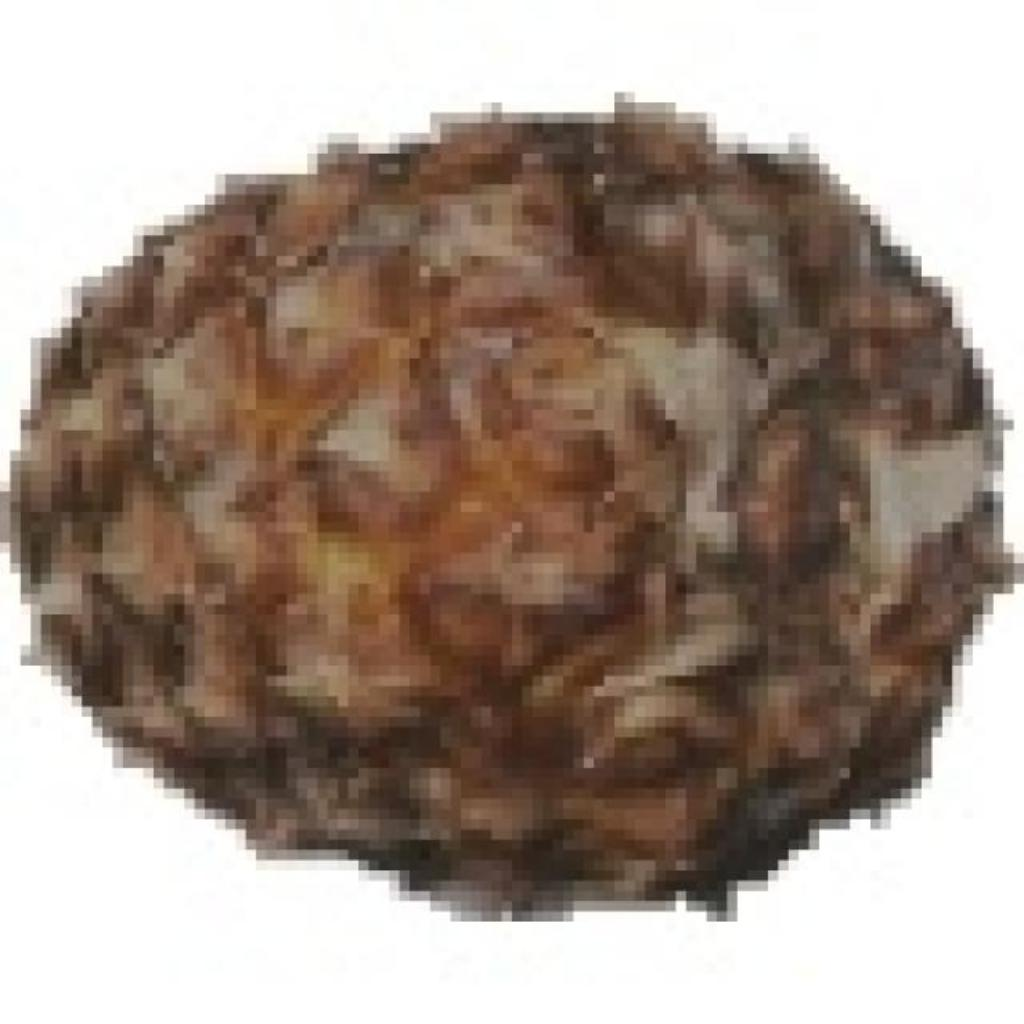pineapple: (0, 92, 983, 891)
